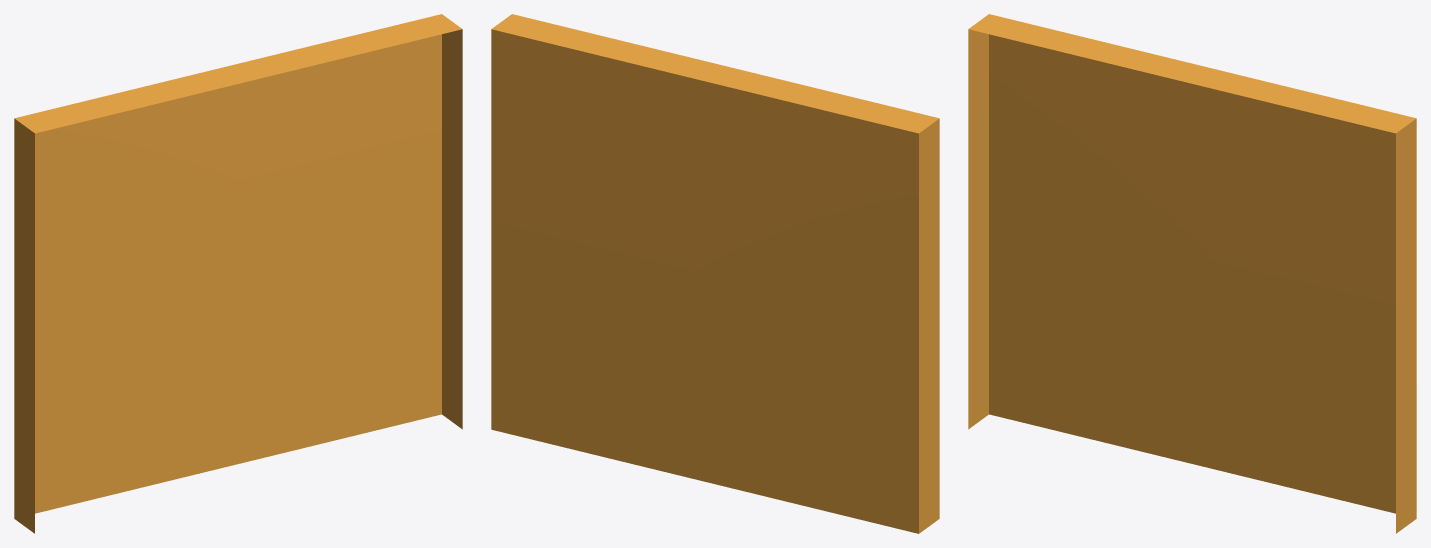
File: walldecor.fbx
3 renders of one model, left to right at view 1: azimuth 30°, elevation 25°; view 2: azimuth 150°, elevation 25°; view 3: azimuth 330°, elevation 25°, orthographic.
Visible parts, largest first — view 1: walldecor; view 2: walldecor; view 3: walldecor.
Boxes of the visible parts, left/top/right/bottom form: walldecor: left=14, top=14, right=462, bottom=533; walldecor: left=491, top=14, right=939, bottom=533; walldecor: left=968, top=14, right=1416, bottom=533.
Bounding box in the file's own units: 593 × 530 × 49.9.
